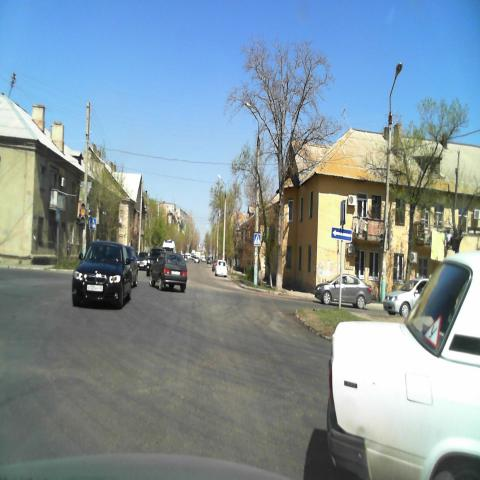5_7_2: (332, 227, 352, 241)
